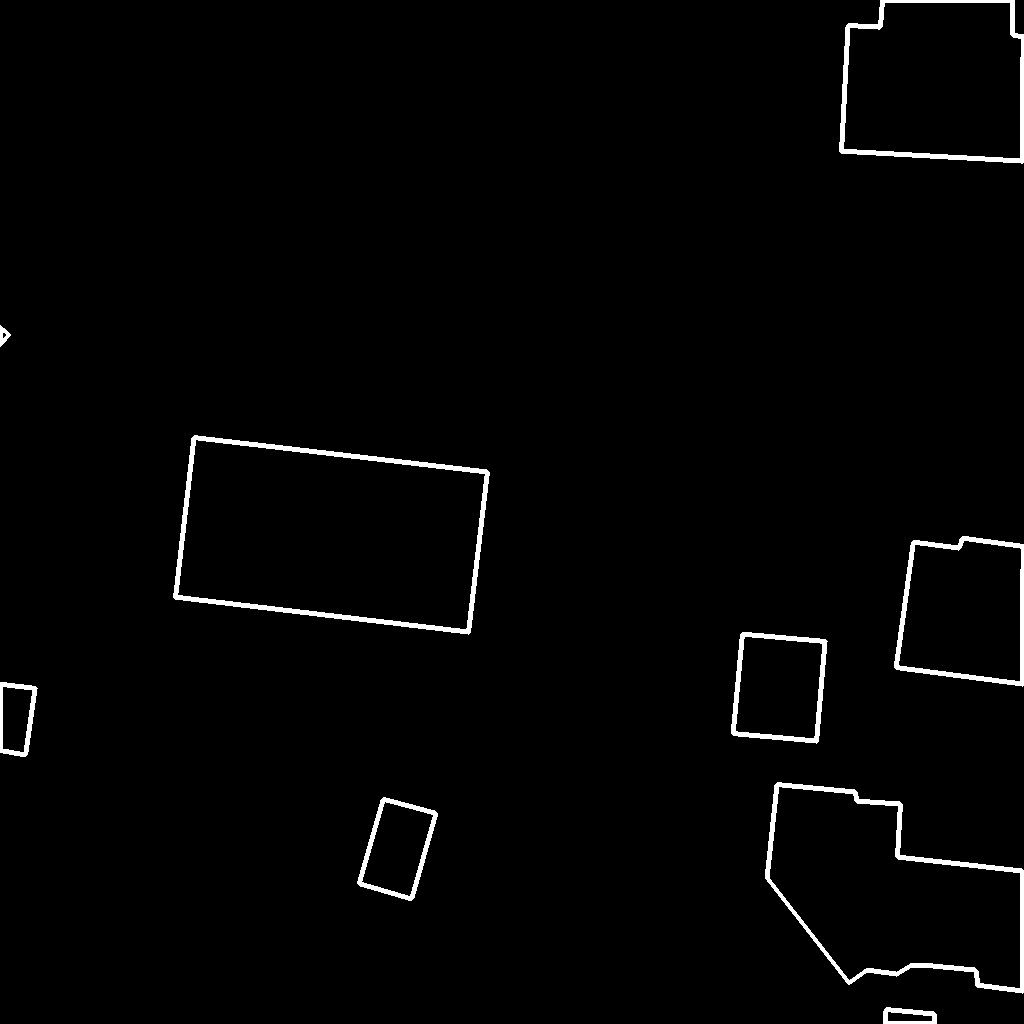building: (175, 437, 489, 633), (767, 784, 1024, 992), (841, 0, 1024, 162), (896, 538, 1024, 685), (733, 634, 826, 742), (359, 799, 437, 900), (0, 684, 36, 756), (885, 1009, 936, 1024), (0, 327, 10, 346)
